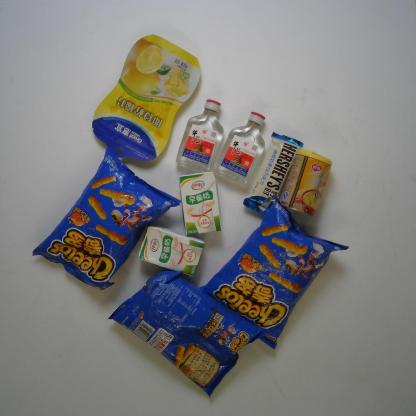Alcohol: (212, 110, 268, 188), (173, 99, 225, 171)
Canned Food: (279, 148, 334, 218)
Chocolate: (242, 131, 304, 215)
Dried Fruit: (91, 34, 202, 162)
Milk: (138, 224, 205, 277), (178, 170, 222, 236)
Puffed Food: (196, 193, 350, 350), (30, 146, 182, 291), (107, 269, 269, 399)
